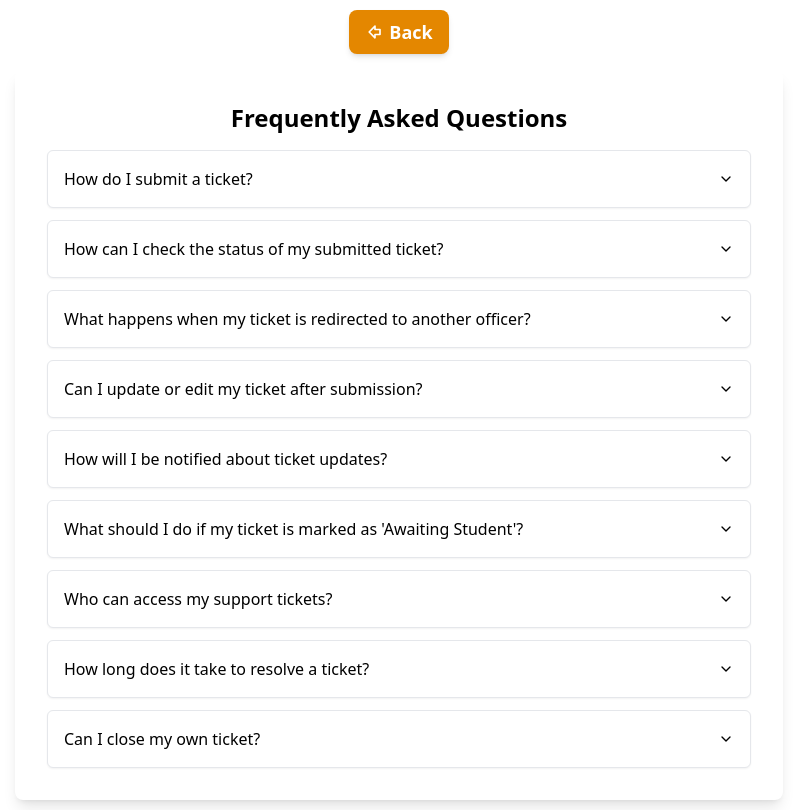
Scenario: Help Q&A component › hides the answer when a question is clicked twice
The image size is (799, 810).
Click the button "How do I submit a ticket?" at (158, 179), box [47,150,751,208]
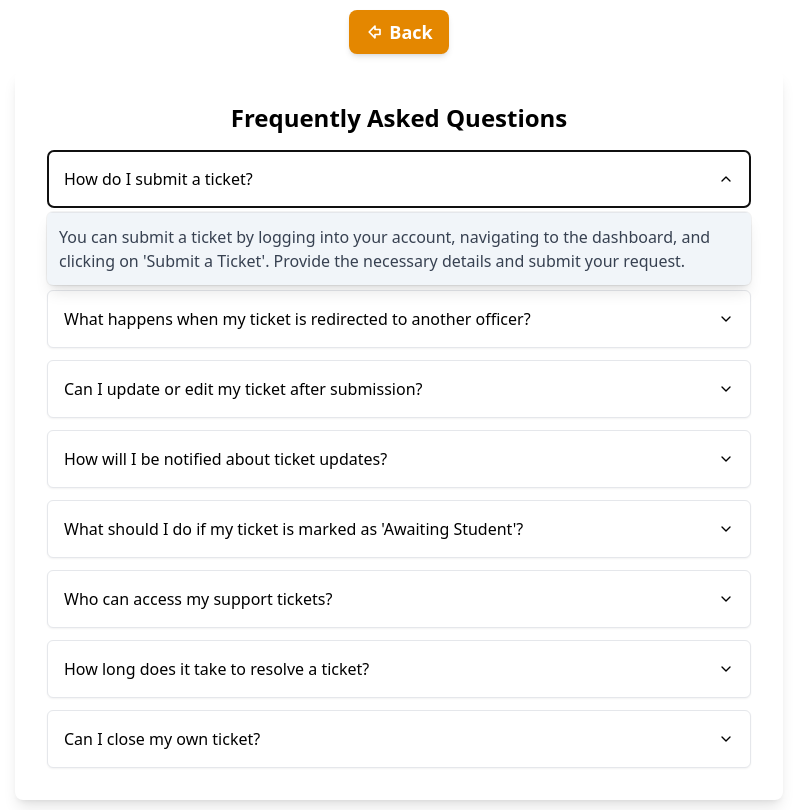
Expected: the text "You can submit a ticket by logging into your account, navigating to the dashboard, and clicking on 'Submit a Ticket'. Pr" is shown, [59,226,710,272]
Click the button "How do I submit a ticket?" at (158, 179), box [47,150,751,208]
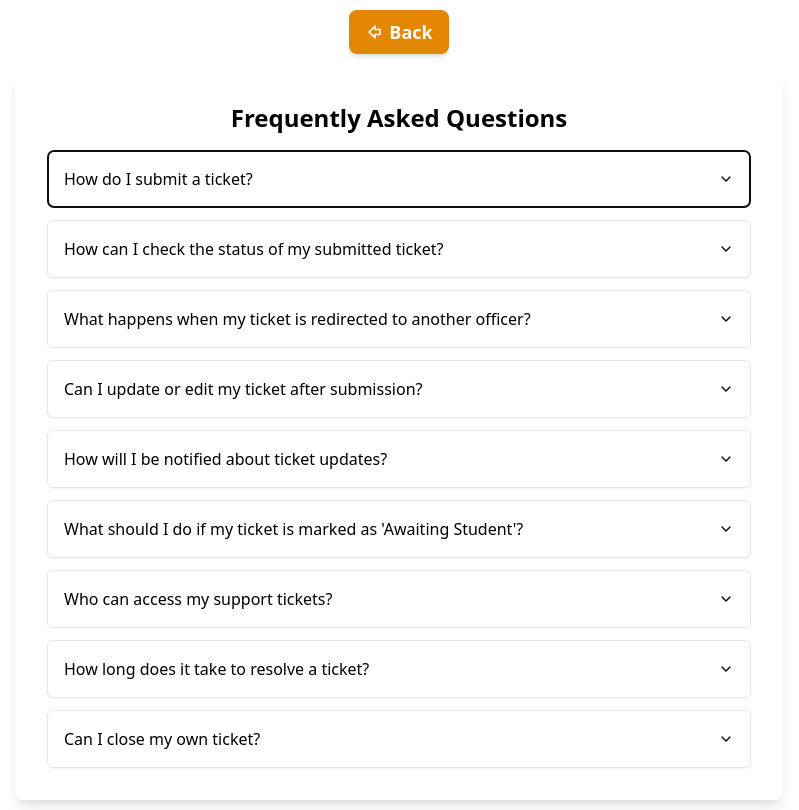
Expected: the text "You can submit a ticket by logging into your account, navigating to the dashboard, and clicking on 'Submit a Ticket'. Pr" is gone
